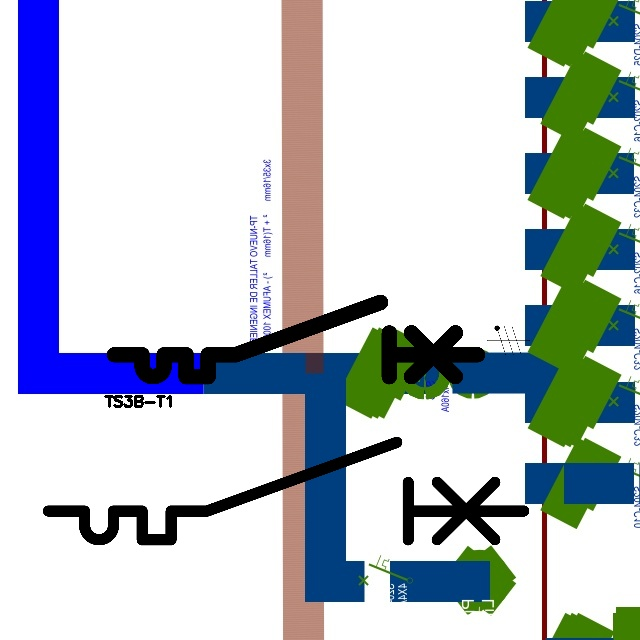interruptor_termomagnetico: (36, 430, 536, 552), (105, 293, 487, 386)
